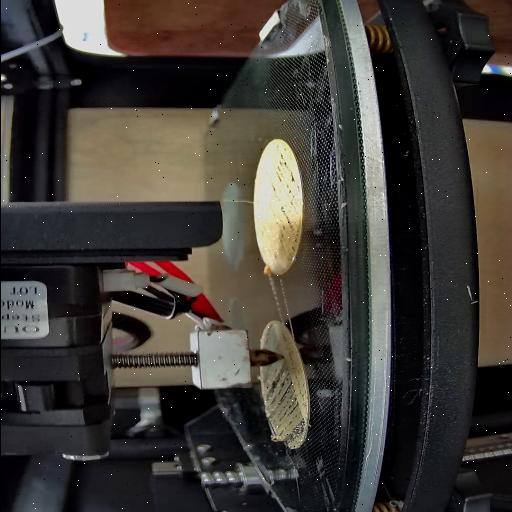under_extrusion: (262, 362, 306, 446), (268, 204, 302, 262), (268, 144, 296, 200)
